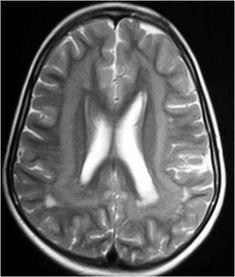Normal_Brain: (1, 1, 235, 277)
